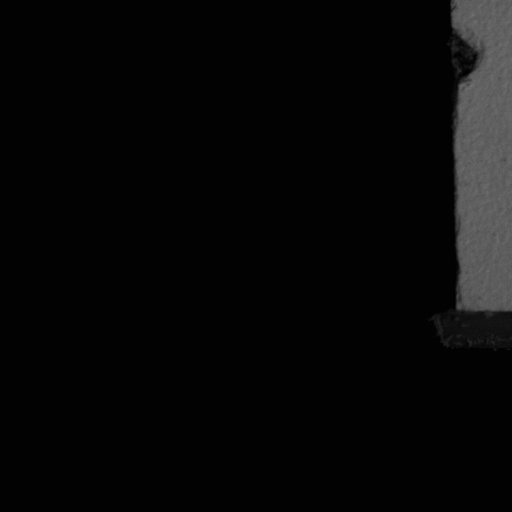bengque: (450, 21, 487, 92)
